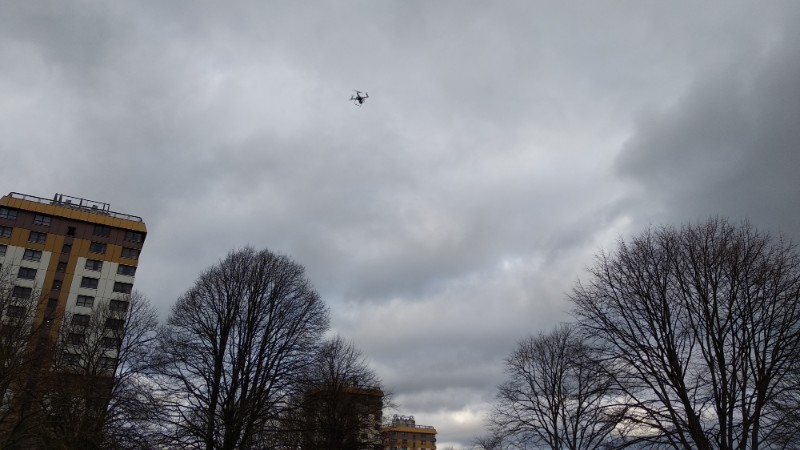drone: (349, 90, 370, 107)
